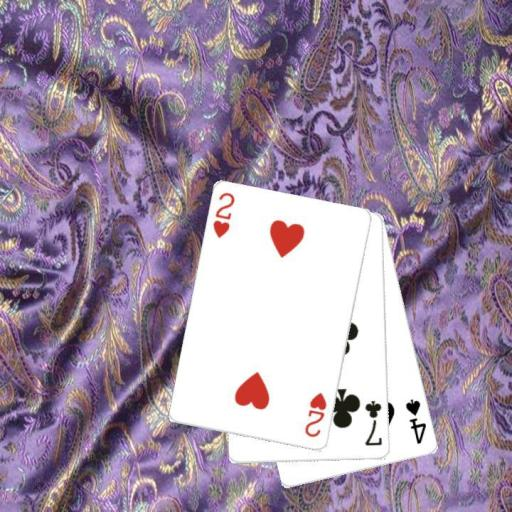2H: (302, 390, 329, 440), (210, 190, 237, 240)
4S: (403, 396, 428, 446)
7C: (362, 398, 384, 448)
